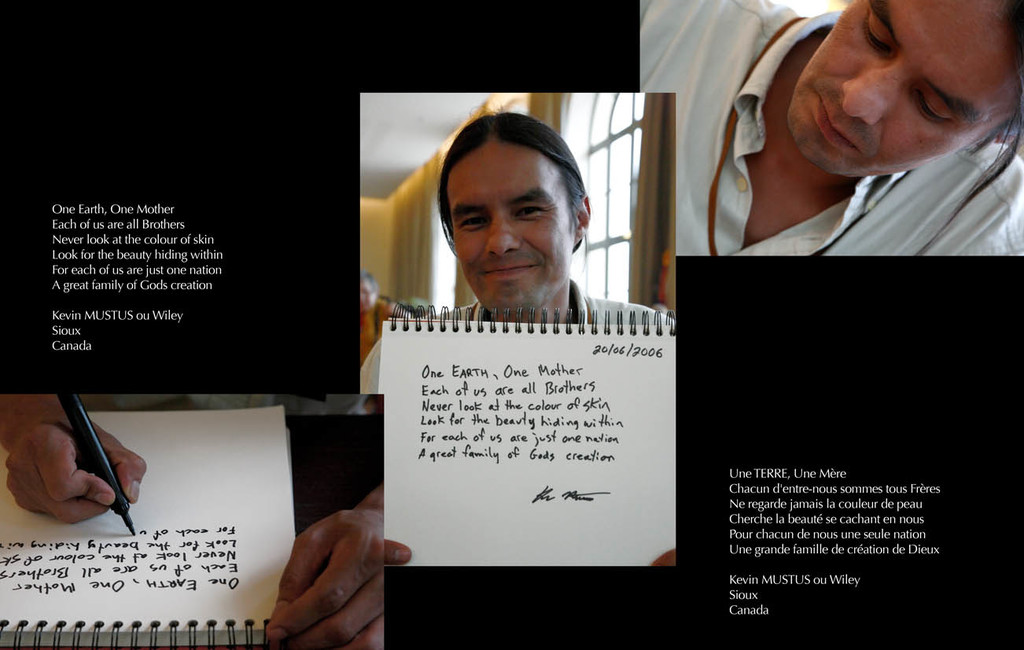Pen: (51, 392, 136, 534)
